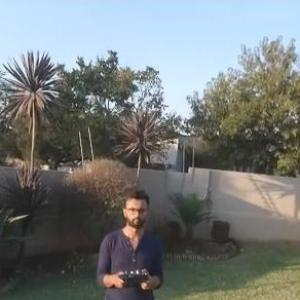follow: (94, 187, 166, 299)
